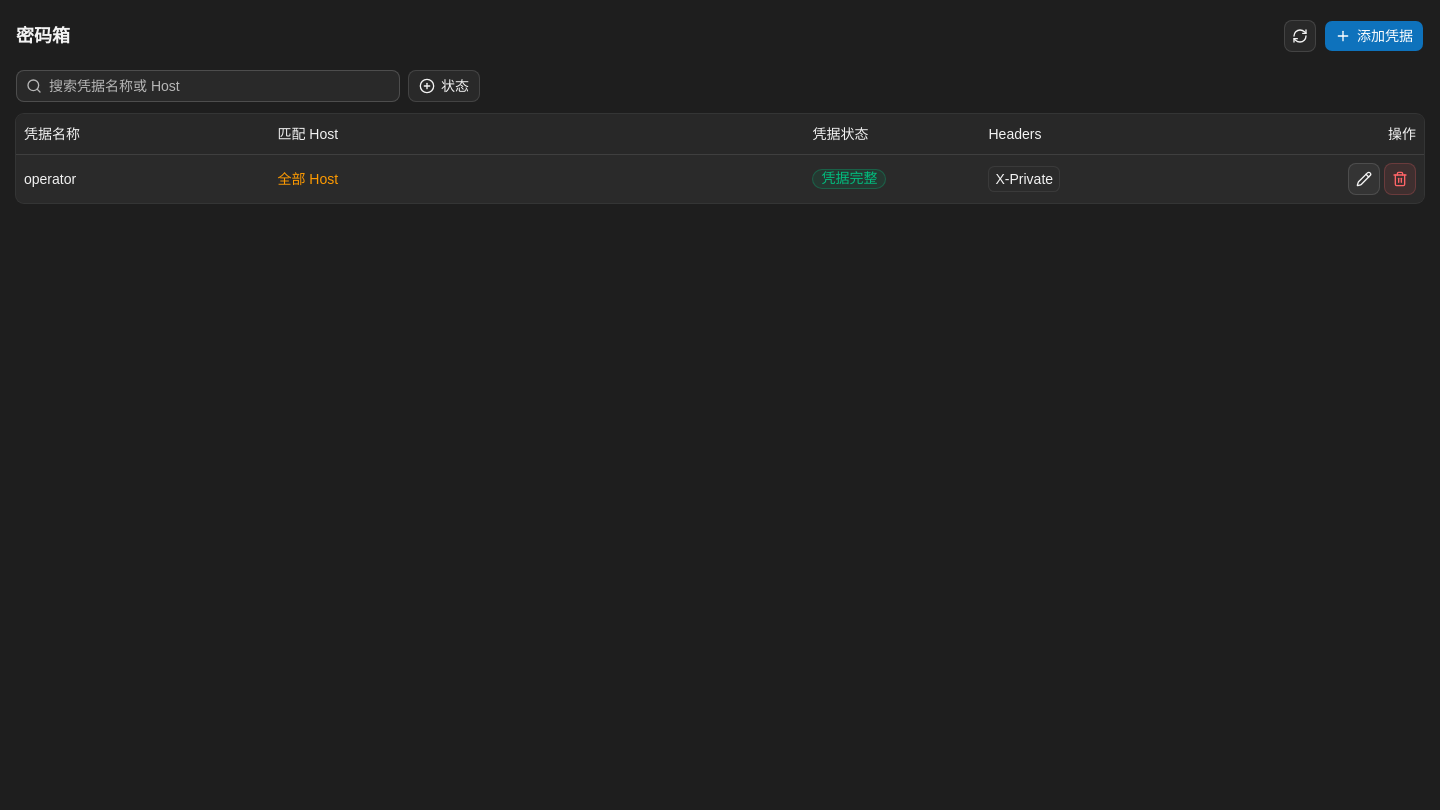
Scenario: 打开编辑弹窗时按用途分区，登录字段窄屏单列且请求头编辑器高度受限
This screenshot has width=1440, height=810.
Click the button named "编辑凭据".
click(1364, 178)  # box [1348, 162, 1380, 194]
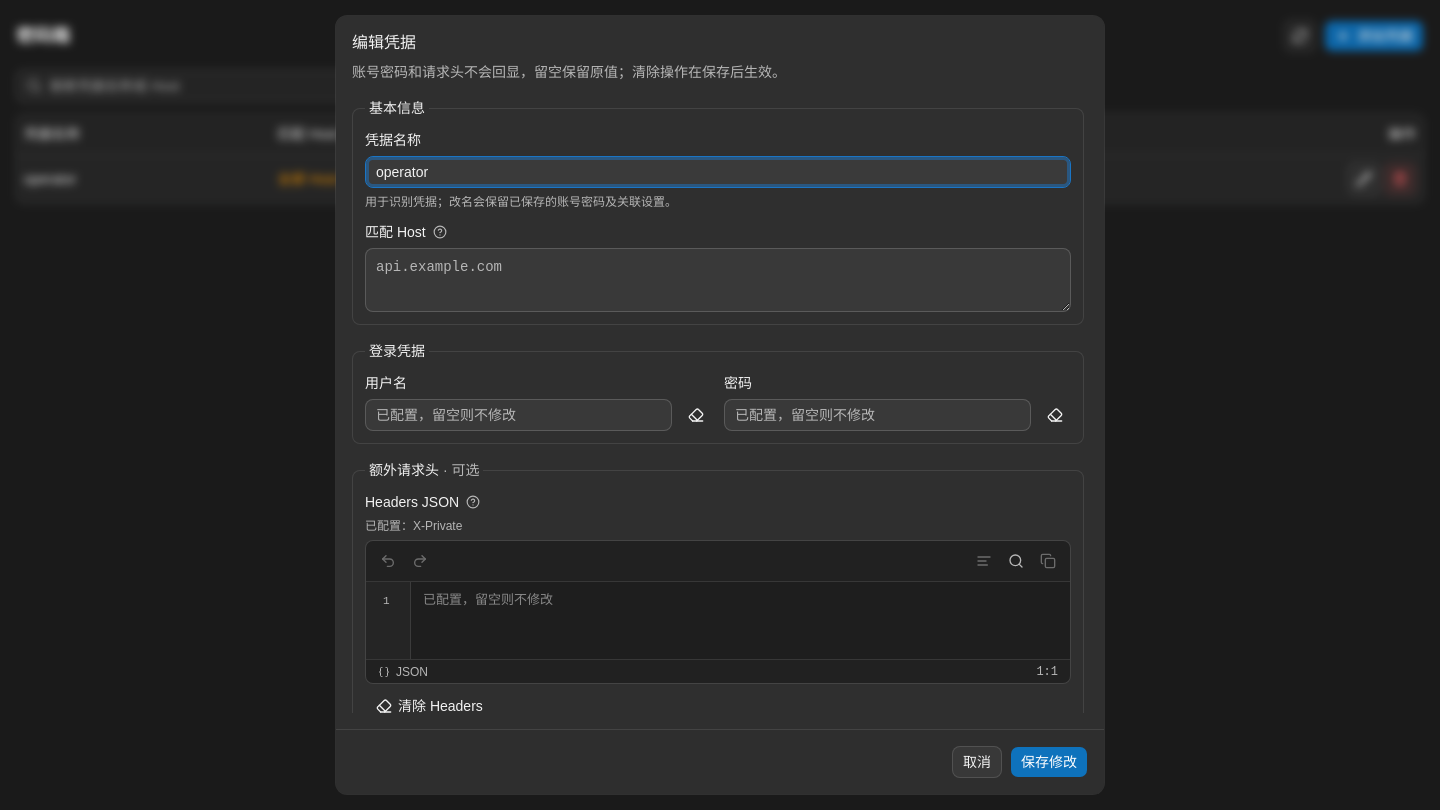
Expected: the element "基本信息" is shown, [352, 98, 1084, 325]
Expected: the element showing "1 已配置，留空则不修改 JSON 1:1" is shown, [365, 540, 1071, 684]
